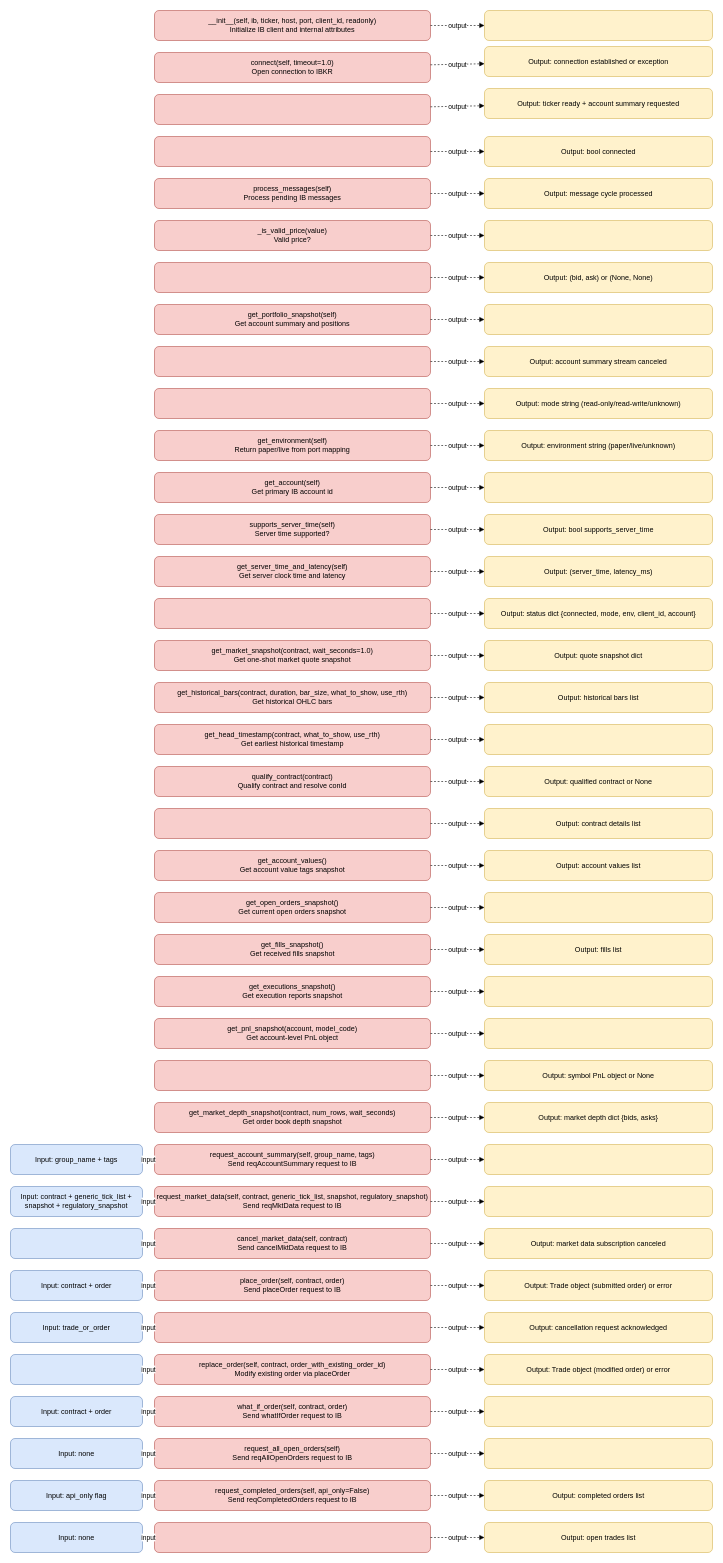
This 723x1563 diagram has some shape labels left out. The shapes that lost their labels are listed below. From the top down, each one's centre as x and y in pixels, then its label:
At point (598, 25): "Output: IBClient initialized".
At point (292, 109): "connect_and_prepare(self) Connect, then prepare ticker and account summary".
At point (292, 151): "is_connected(self) Connected?".
At point (598, 235): "Output: bool valid_price".
At point (292, 277): "get_latest_bid_ask(self) Get latest valid bid/ask".
At point (598, 319): "Output: (accountSummary, positions)".
At point (292, 361): "cancel_account_summary(self) Stop account summary stream".
At point (292, 403): "get_connection_mode(self) Return read-only/read-write mode".
At point (598, 487): "Output: account id or '--'".
At point (292, 613): "get_status_snapshot(self) Build aggregated status snapshot".
At point (598, 739): "Output: head timestamp or None".
At point (292, 823): "get_contract_details(contract) Get metadata for the contract".
At point (598, 907): "Output: open orders list".
At point (598, 991): "Output: executions list".
At point (598, 1033): "Output: account PnL object or None".
At point (292, 1075): "get_pnl_single_snapshot(account, con_id, model_code) Get symbol-level PnL object".
At point (598, 1159): "Output: account summary subscription started or error".
At point (598, 1201): "Output: ticker subscription object or snapshot ticker".
At point (76, 1243): "Input: contract".
At point (292, 1327): "cancel_order(self, trade_or_order) Send cancelOrder request to IB".
At point (76, 1369): "Input: contract + order_with_existing_order_id".
At point (598, 1411): "Output: what-if order state (margin/commission impact)".
At point (598, 1453): "Output: all open orders synchronized".
At point (292, 1537): "get_open_trades_snapshot(self) Request current open trades/status from IB".
